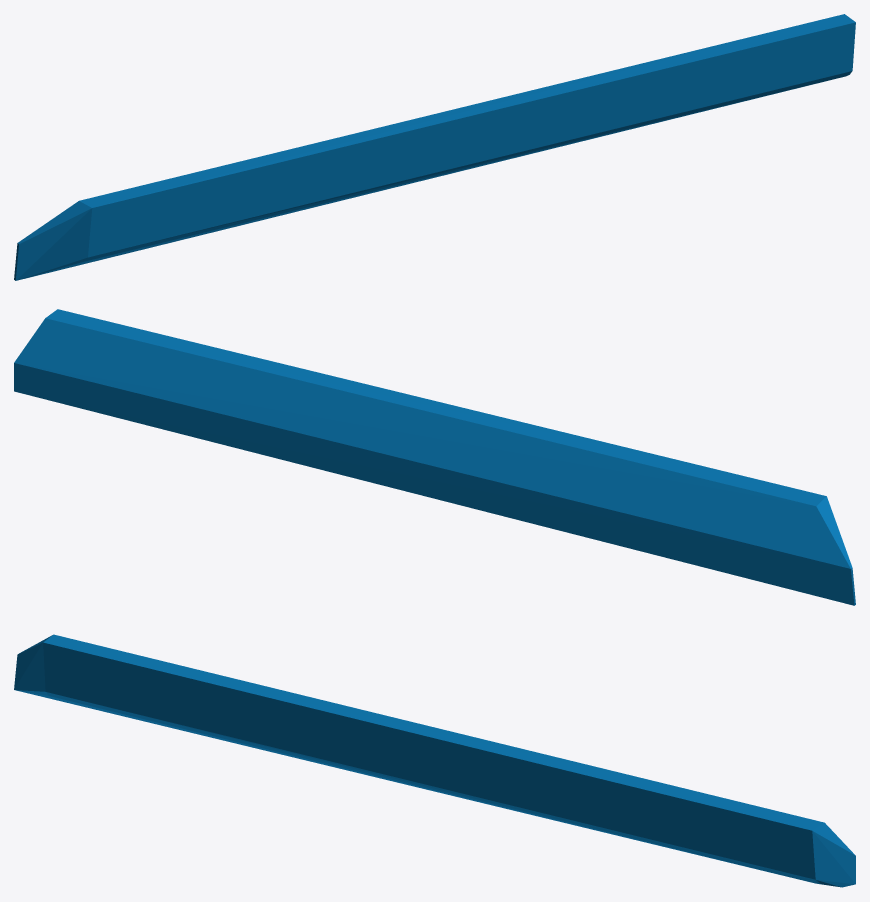
3 views of the same model, one above another, from view 1: azimuth 30°, elevation 25°; view 2: azimuth 150°, elevation 25°; view 3: azimuth 330°, elevation 25° (orthographic).
Size of the model in its own units: 11.88 by 1.05 by 0.628.
